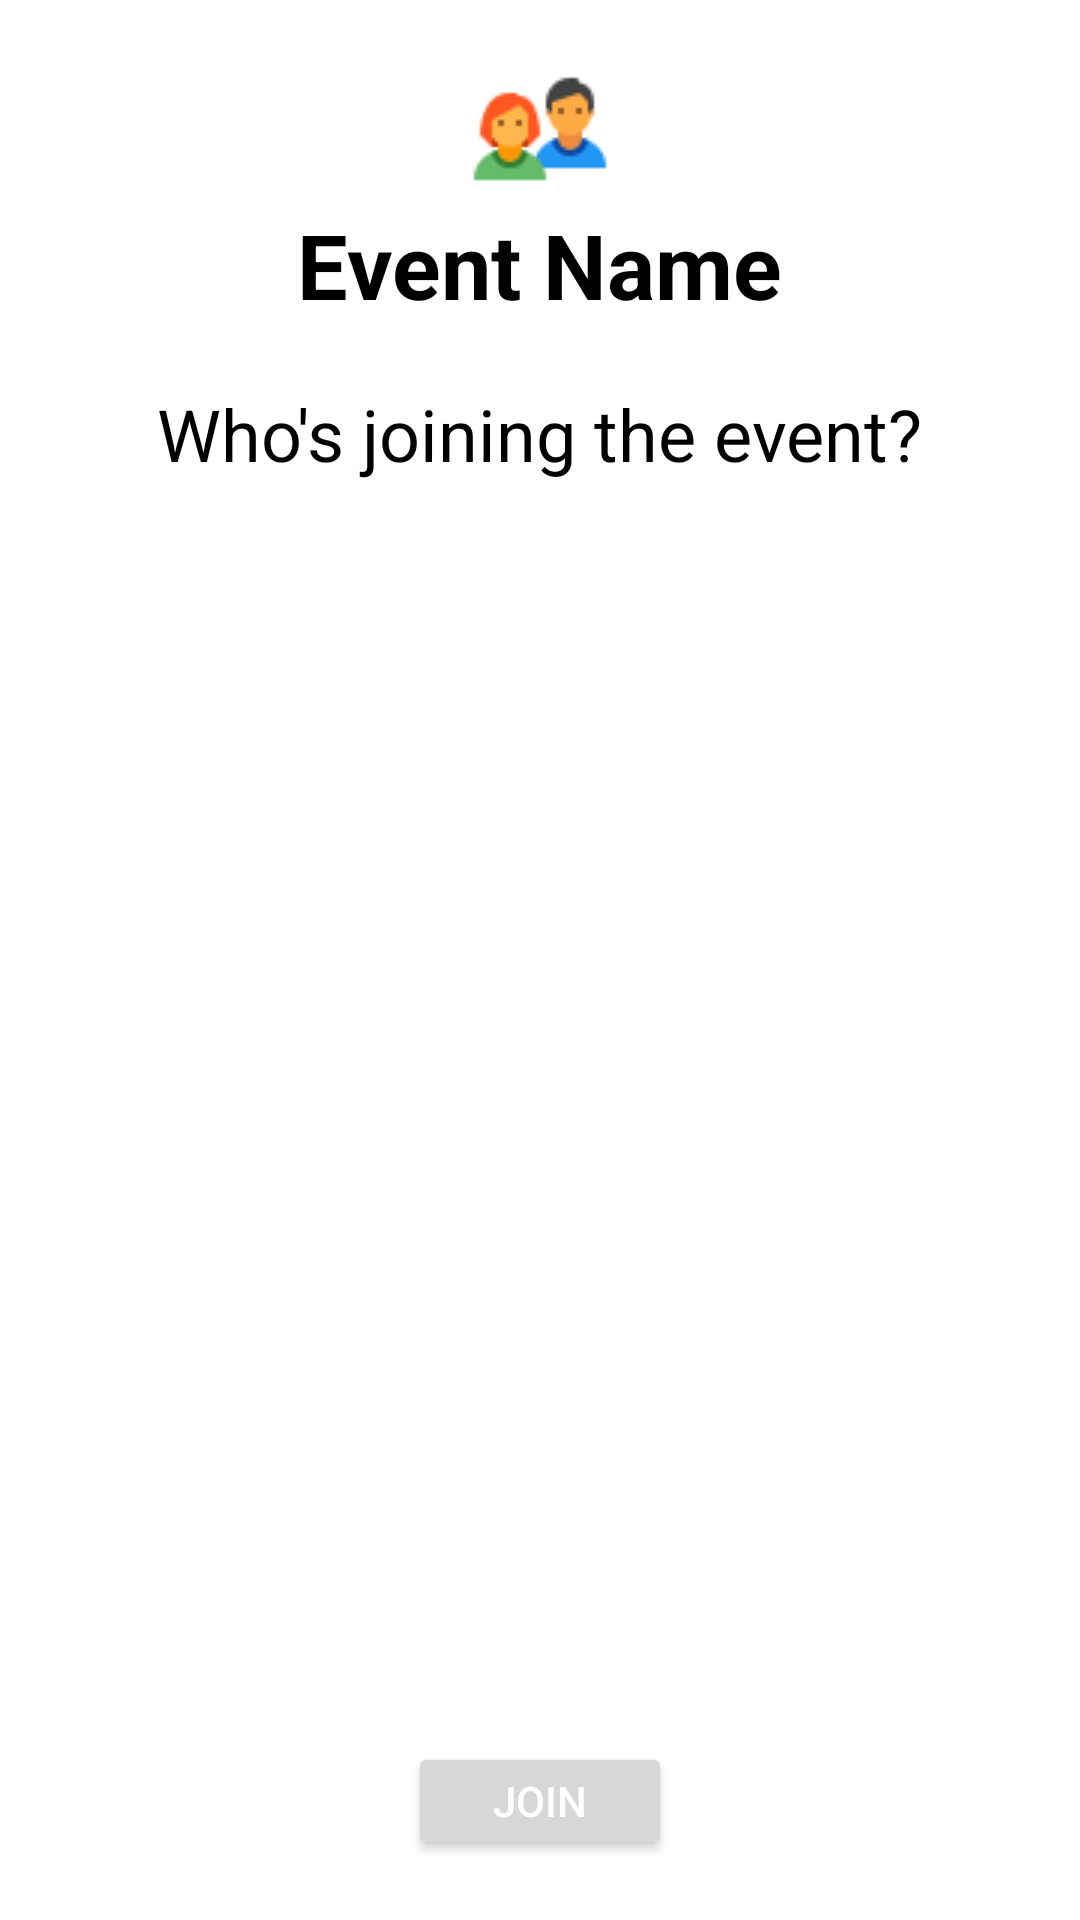

Named icons in this screenshot (1080px×1920px) and their centers, (x,y):
people: (540,129)
